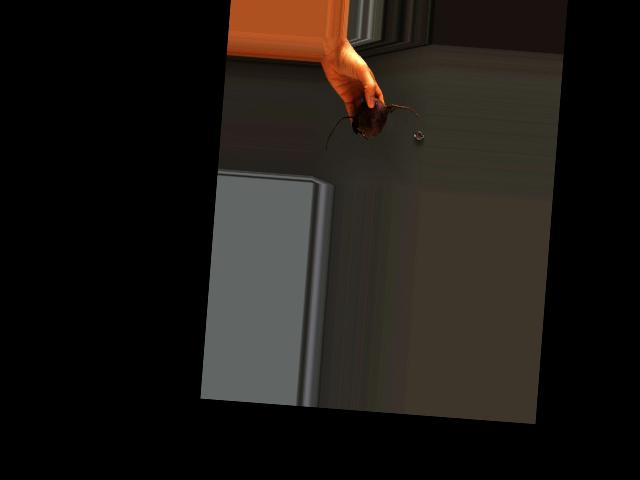beet: (325, 94, 420, 157)
